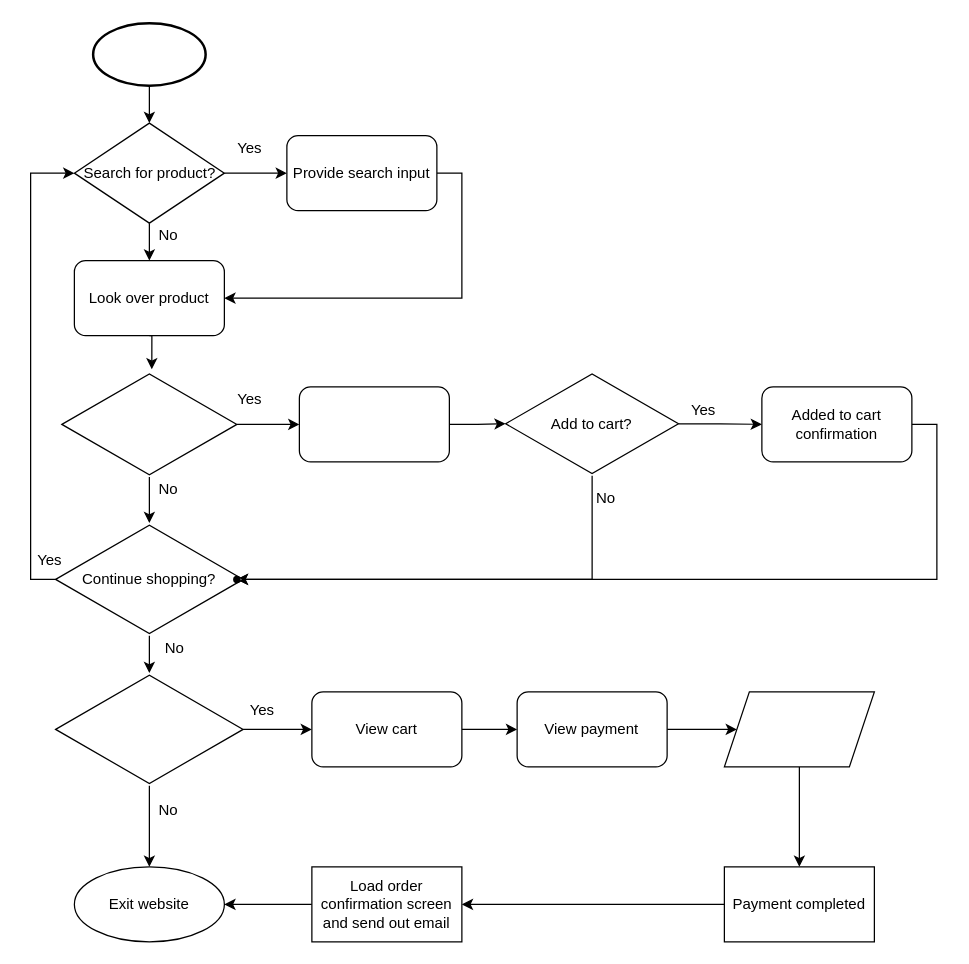
Image size: 969x964. Some labels were removed from this diagram. Each missing label, with the box of its shape:
Enter website: (91, 21, 206, 86)
Read payment info: (723, 691, 874, 767)
Ready to checkout?: (54, 672, 243, 786)
Specific product web page open: (298, 386, 449, 462)
View specific product?: (61, 371, 237, 477)
